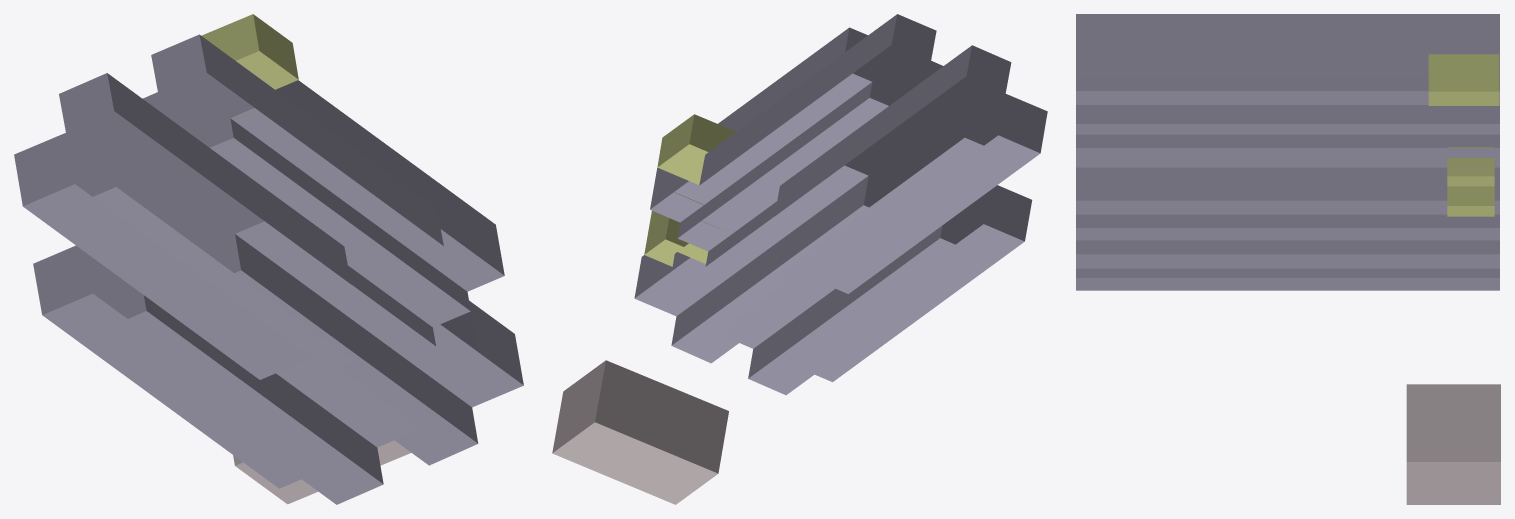
The picture shows the model from 3 angles, left to right: view 1: azimuth 30°, elevation 25°; view 2: azimuth 150°, elevation 25°; view 3: azimuth 270°, elevation 25°; orthographic projection. The views are drawn at different scales.
Visible parts, largest first — view 1: 0_3_2_0_1_0_0_2_0; view 2: 0_3_2_0_1_0_0_2_0; view 3: 0_3_2_0_1_0_0_2_0.
Boxes of the visible parts, left/top/right/bottom form: 0_3_2_0_1_0_0_2_0: left=14, top=14, right=523, bottom=504; 0_3_2_0_1_0_0_2_0: left=552, top=14, right=1047, bottom=504; 0_3_2_0_1_0_0_2_0: left=1076, top=14, right=1500, bottom=504.
Size of the model in its own units: 49.12 by 56.31 by 54.1.
